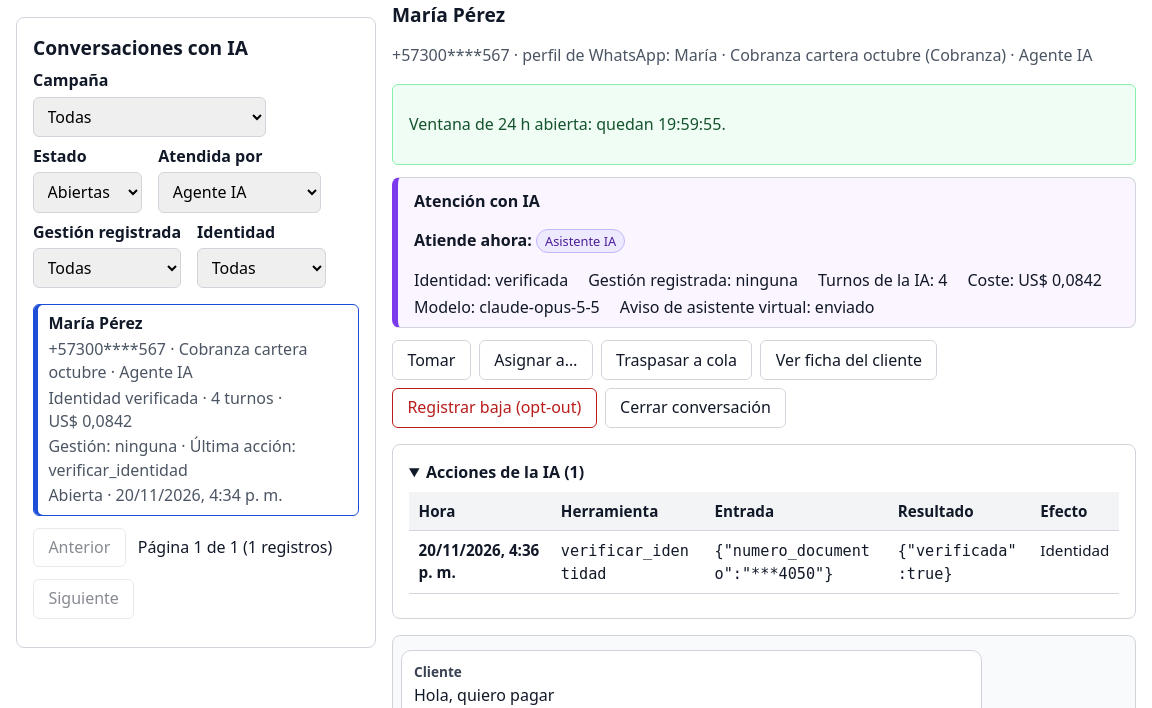
Supervisión de la IA (F21) › tomar: la conversación pasa al supervisor y se ofrece abrirla en la bandeja (sin compositor en la supervisión)
(page scrolled)
Click the button "Tomar" at (431, 360), box x1=392 y1=340 x2=471 y2=380
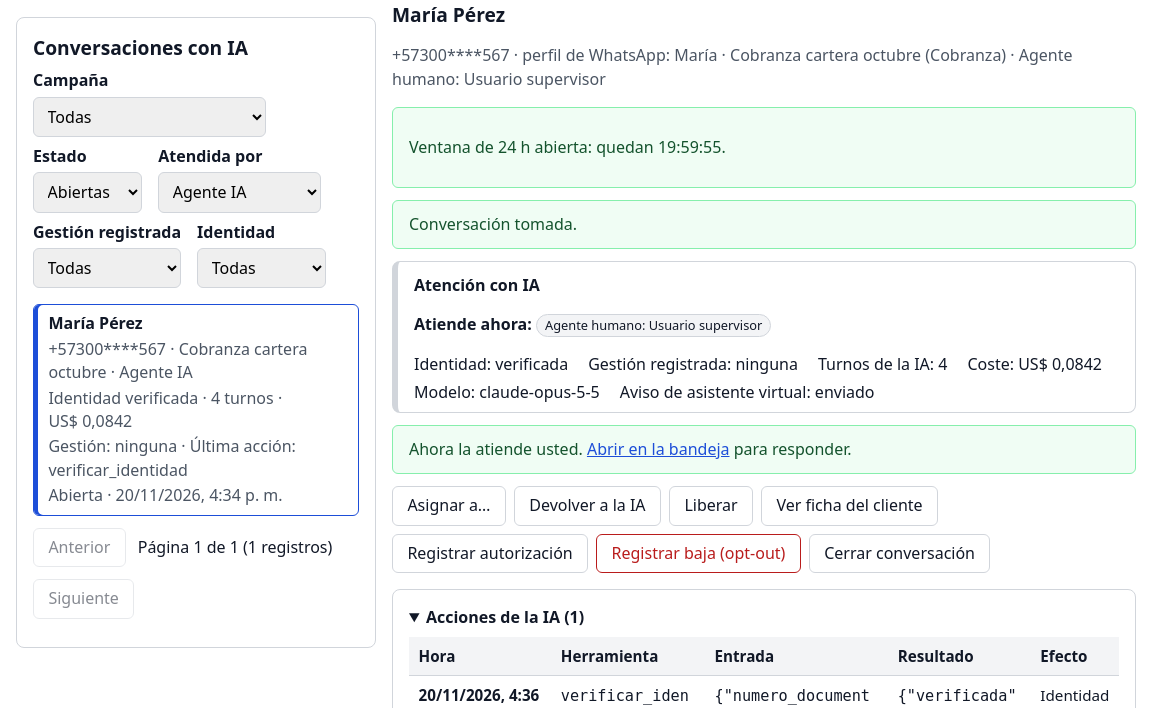
Expected: the text "Conversación tomada." is shown, x1=392 y1=200 x2=1136 y2=249
